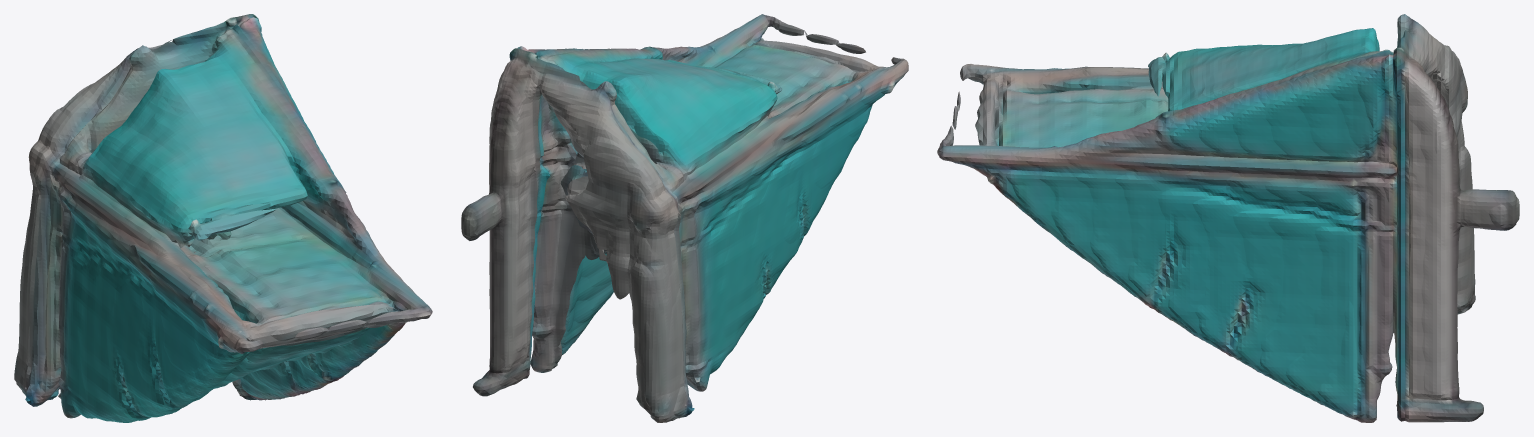
The model's file is 000037_sailing_sailboat_transportation.glb.
3 views of the same model, side by side, from view 1: azimuth 30°, elevation 25°; view 2: azimuth 150°, elevation 25°; view 3: azimuth 270°, elevation 25° (orthographic). The views are drawn at different scales.
Parts seen in each view (by area): view 1: world; view 2: world; view 3: world.
Part boxes in pixels (left/top/right/bottom): world: left=14, top=14, right=432, bottom=422; world: left=461, top=14, right=908, bottom=422; world: left=937, top=14, right=1519, bottom=422.
Size of the model in its own units: 0.4706 by 0.702 by 0.9982.
